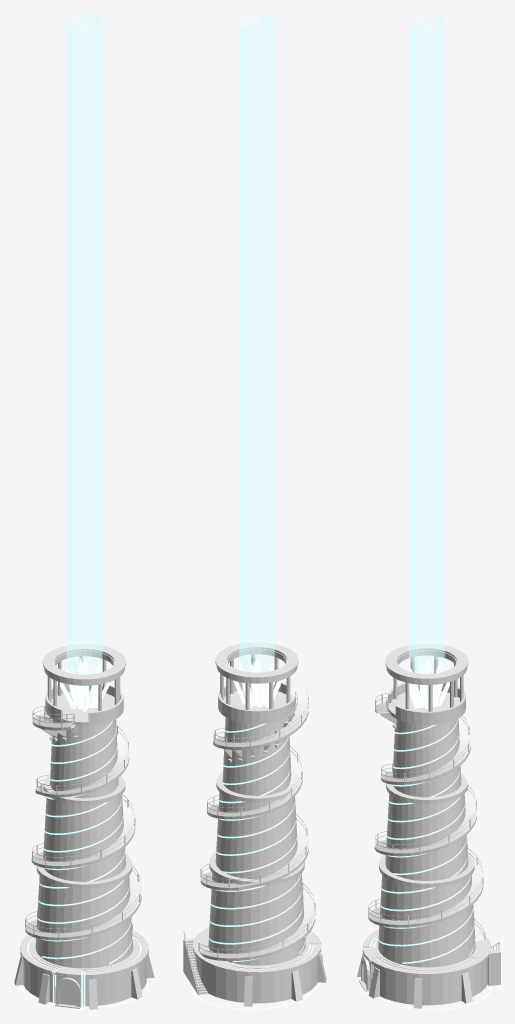
The model's file is concordia_faro.glb.
3 renders of one model, left to right at view 1: azimuth 30°, elevation 25°; view 2: azimuth 150°, elevation 25°; view 3: azimuth 330°, elevation 25°, orthographic.
Parts seen in each view (by area): view 1: FARO_Body, FARO_Beam, FARO_Crystal; view 2: FARO_Body, FARO_Beam, FARO_Crystal; view 3: FARO_Body, FARO_Beam, FARO_Crystal.
Part boxes in pixels (x1=…): FARO_Body: x1=14, y1=644, x2=154, y2=1009; FARO_Beam: x1=66, y1=14, x2=102, y2=674; FARO_Crystal: x1=59, y1=658, x2=110, y2=711; FARO_Body: x1=183, y1=642, x2=327, y2=1009; FARO_Beam: x1=239, y1=14, x2=274, y2=672; FARO_Crystal: x1=233, y1=657, x2=281, y2=708; FARO_Body: x1=356, y1=643, x2=500, y2=1009; FARO_Beam: x1=409, y1=14, x2=444, y2=673; FARO_Crystal: x1=402, y1=658, x2=449, y2=710.
Size of what is drawn, in the model's own units: 15.42 by 120 by 15.
7 materials, 5 textured.
